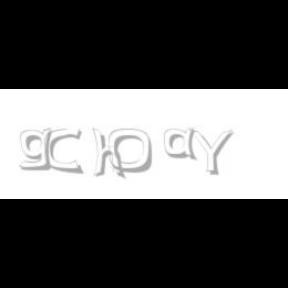C: (44, 128, 82, 174)
O: (108, 128, 154, 174)
Y: (187, 128, 233, 176)
a: (164, 128, 201, 160)
g: (20, 128, 56, 171)
h: (92, 128, 128, 180)
